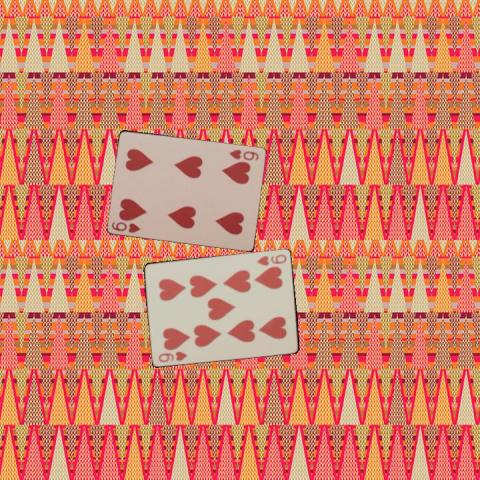6h: (227, 147, 260, 162), (109, 219, 142, 234)
9h: (254, 250, 288, 267), (156, 348, 189, 363)
